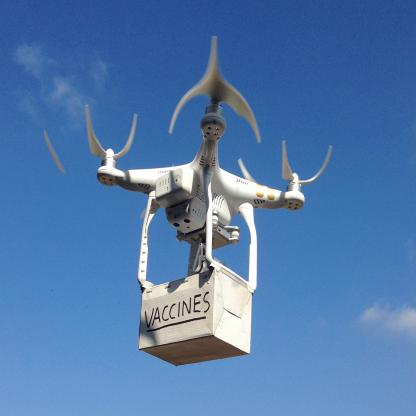drone: (61, 52, 359, 264)
